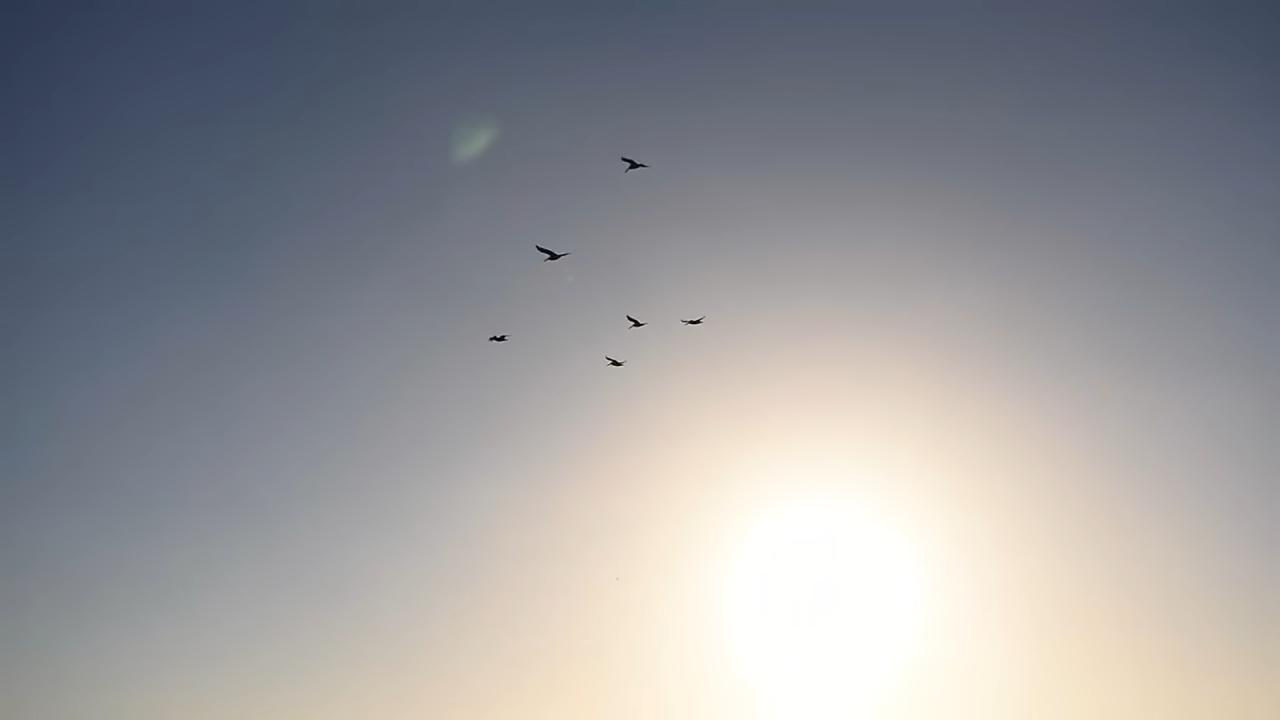Bird: (529, 236, 581, 273), (614, 151, 656, 182), (481, 323, 518, 355), (600, 350, 636, 376), (675, 311, 713, 335), (620, 310, 654, 336)
